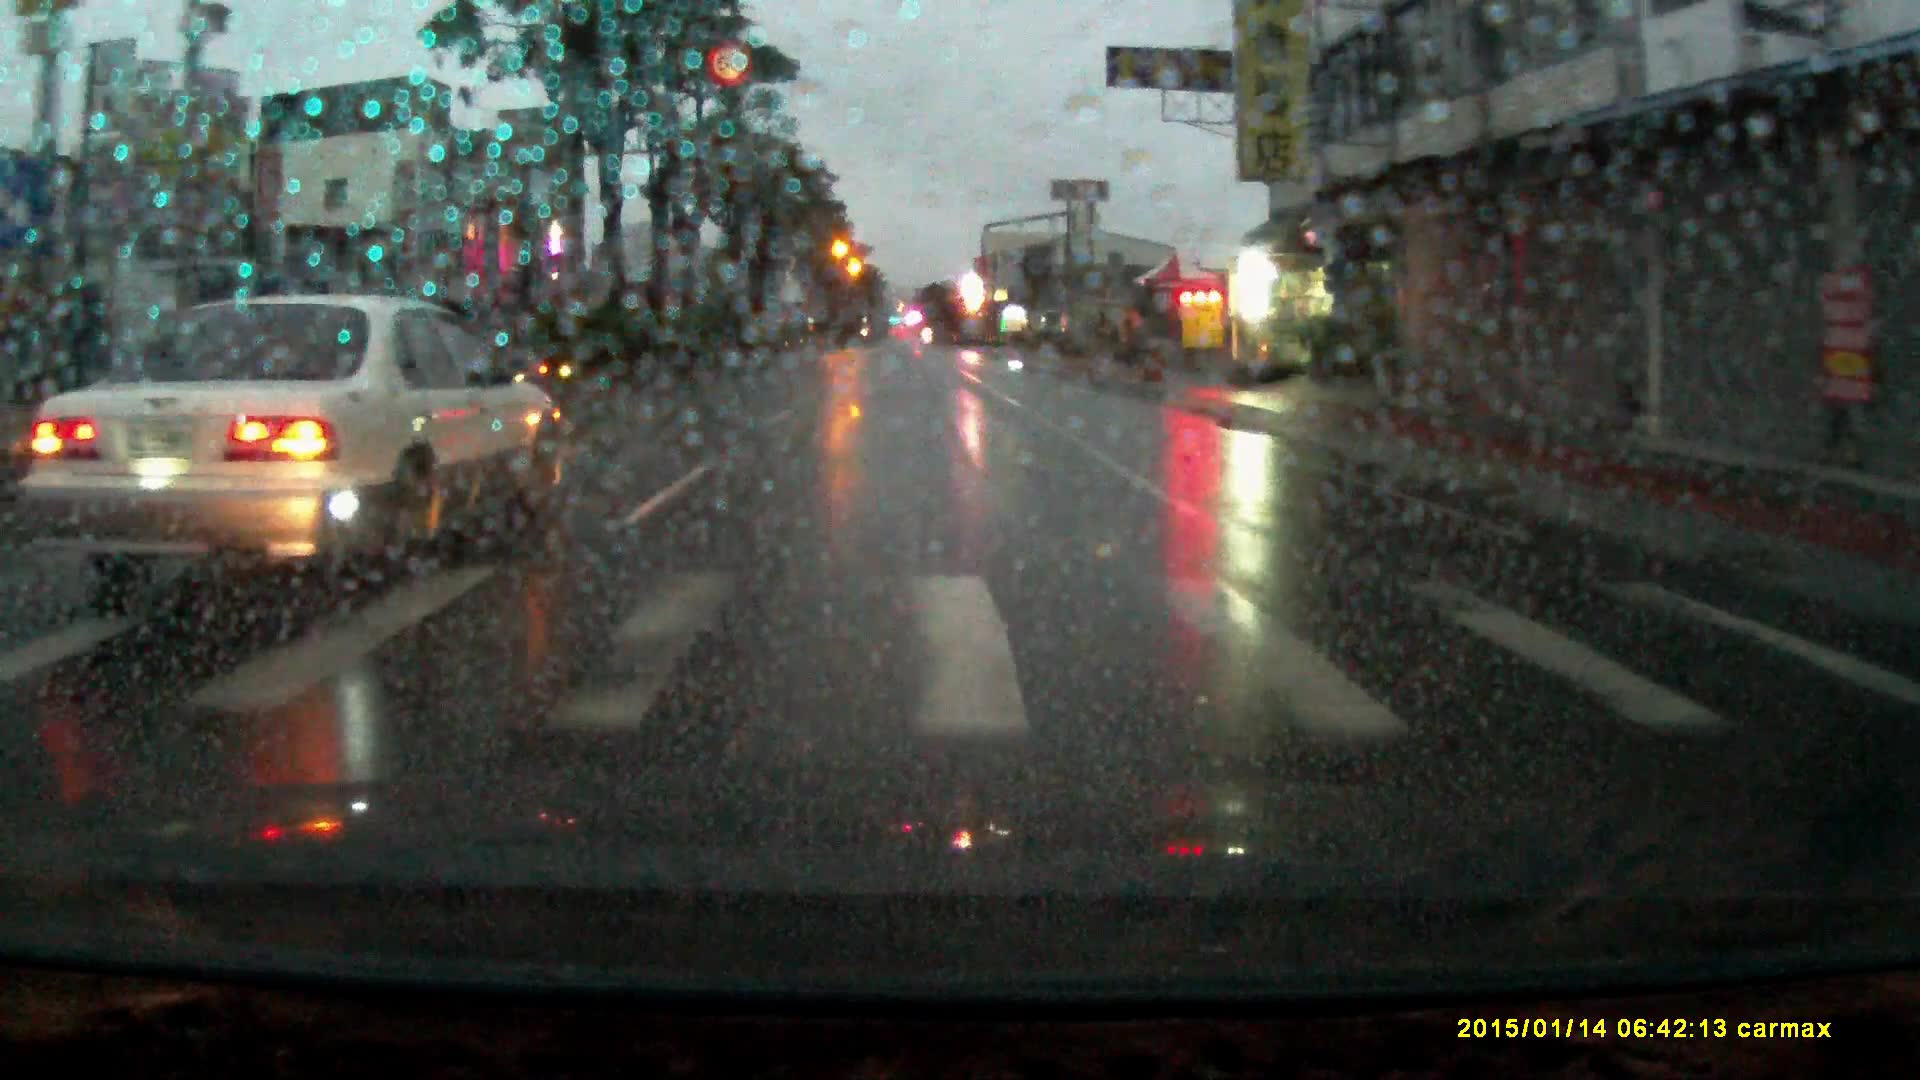vehicle: (28, 282, 554, 587)
